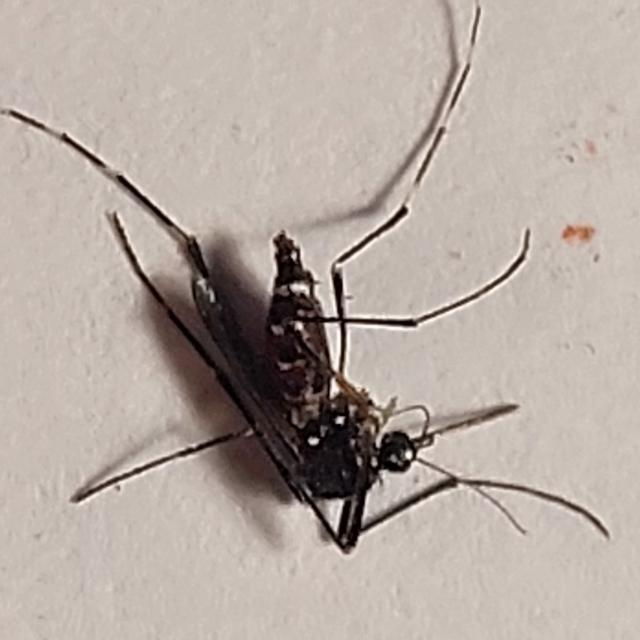albopictus: (21, 2, 586, 595)
